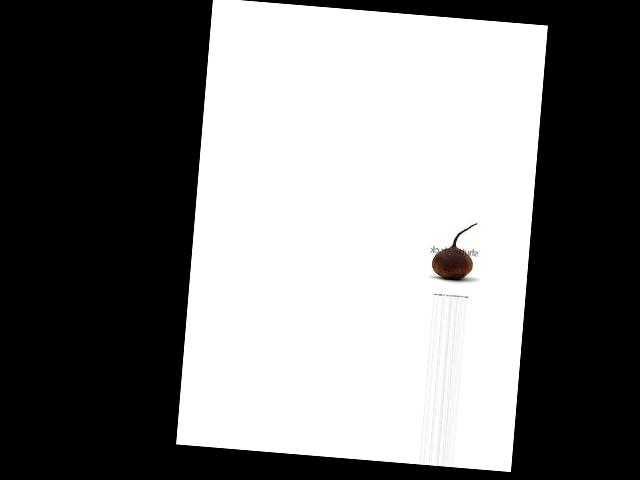beet: (429, 219, 477, 281)
